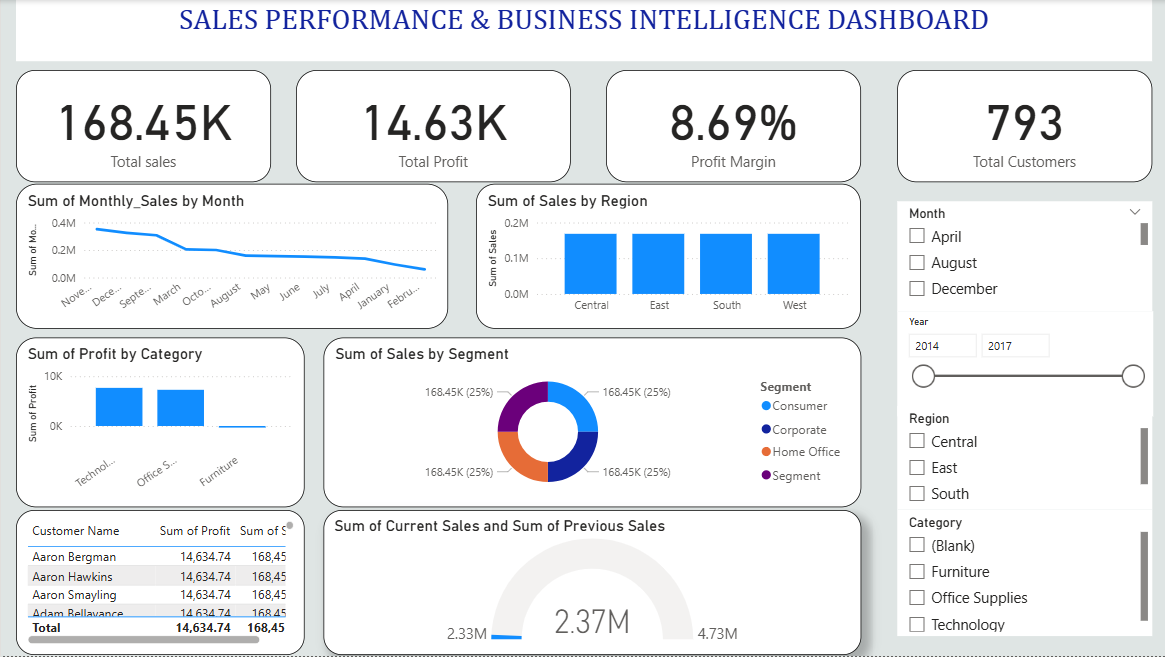

Layout of this report page (visuals, bound fields, positions):
{"tool":"powerbi","page":{"name":"Page 1","canvas":[1280,720],"ordinal":0},"visuals":[{"type":"card","fields":{"Values":["Orders_Table(2).Total sales"]},"box":[16.5,76.8,279.9,123.5],"z":0},{"type":"card","fields":{"Values":["Orders_Table(2).Total Profit"]},"box":[323.8,76.8,301.9,123.5],"z":1000},{"type":"card","fields":{"Values":["Orders_Table(2).Total Customers"]},"box":[983.9,76.8,279.9,123.5],"z":2000},{"type":"card","fields":{"Values":["Orders_Table(2).Profit Margin"]},"box":[664.2,76.8,279.9,123.5],"z":3000},{"type":"lineChart","fields":{"Category":["Monthly_Analysis.Month"],"Y":["Sum(Monthly_Analysis.Monthly_Sales)"]},"box":[16.5,201.7,474.8,159.2],"z":4000},{"type":"clusteredColumnChart","fields":{"Category":["Region_Analysis.Region"],"Y":["Sum(Orders_Table(2).Sales)"]},"box":[521.4,201.7,422.6,159.2],"z":5000},{"type":"columnChart","fields":{"Category":["Orders_Table(2).Category"],"Y":["Sum(Orders_Table(2).Profit)"]},"box":[16.5,370.5,317,186.6],"z":6000},{"type":"tableEx","fields":{"Values":["Customers_Table(1).Customer Name","Sum(Orders_Table(2).Profit)","Sum(Orders_Table(2).Sales)"]},"box":[16.5,559.9,317,159.2],"z":7000},{"type":"donutChart","fields":{"Y":["Sum(Orders_Table(2).Sales)"],"Category":["Customers_Table(1).Segment"]},"box":[354,370.5,590.1,186.6],"z":8000},{"type":"slicer","fields":{"Values":["Monthly_Analysis.Year"]},"box":[983.9,341.7,279.9,115.3],"z":8001},{"type":"slicer","fields":{"Values":["Region_Analysis.Region"]},"box":[983.9,446,279.9,113.9],"z":8002},{"type":"slicer","fields":{"Values":["Monthly_Analysis.Month"]},"box":[983.9,220.9,279.9,120.8],"z":8003},{"type":"slicer","fields":{"Values":["Orders_Table(2).Category"]},"box":[983.9,559.9,279.9,138.6],"z":8004},{"type":"textbox","box":[16.5,0,1247.3,67.2],"z":8005},{"type":"gauge","fields":{"Y":["Sum(Variance_Analysis.Current Sales)"],"MinValue":["Sum(Variance_Analysis.Previous Sales)"]},"box":[354,560,590,159],"z":8006}]}

Visuals, with their boxes in screenshot pixels (x1, y1, x2, y2), scaled from the page's 1280x720 canvas onto the 1165x657 screenshot:
card - Orders_Table(2).Total sales: 15:70:270:183
card - Orders_Table(2).Total Profit: 295:70:569:183
card - Orders_Table(2).Total Customers: 896:70:1150:183
card - Orders_Table(2).Profit Margin: 605:70:859:183
lineChart - Monthly_Analysis.Month x Sum(Monthly_Analysis.Monthly_Sales): 15:184:447:329
clusteredColumnChart - Region_Analysis.Region x Sum(Orders_Table(2).Sales): 475:184:859:329
columnChart - Orders_Table(2).Category x Sum(Orders_Table(2).Profit): 15:338:304:508
tableEx - Customers_Table(1).Customer Name x Sum(Orders_Table(2).Profit): 15:511:304:656
donutChart - Sum(Orders_Table(2).Sales) x Customers_Table(1).Segment: 322:338:859:508
slicer - Monthly_Analysis.Year: 896:312:1150:417
slicer - Region_Analysis.Region: 896:407:1150:511
slicer - Monthly_Analysis.Month: 896:202:1150:312
slicer - Orders_Table(2).Category: 896:511:1150:637
textbox: 15:0:1150:61
gauge - Sum(Variance_Analysis.Current Sales) x Sum(Variance_Analysis.Previous Sales): 322:511:859:656
